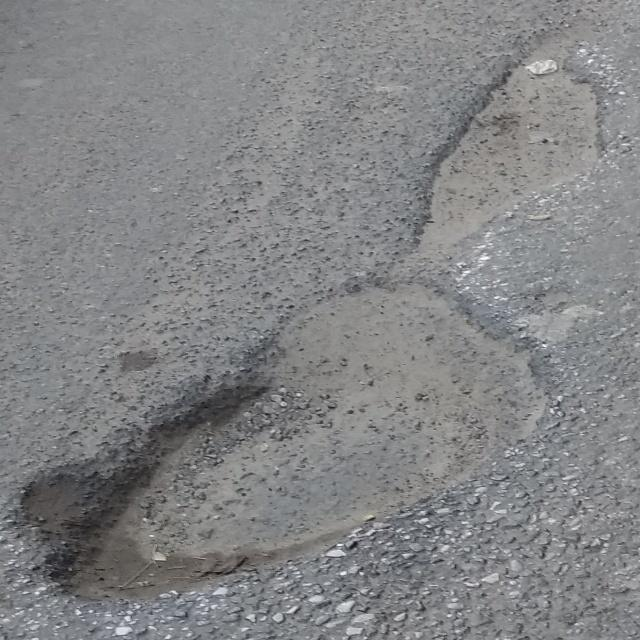Pothole: (98, 326, 348, 565), (440, 64, 588, 220)
